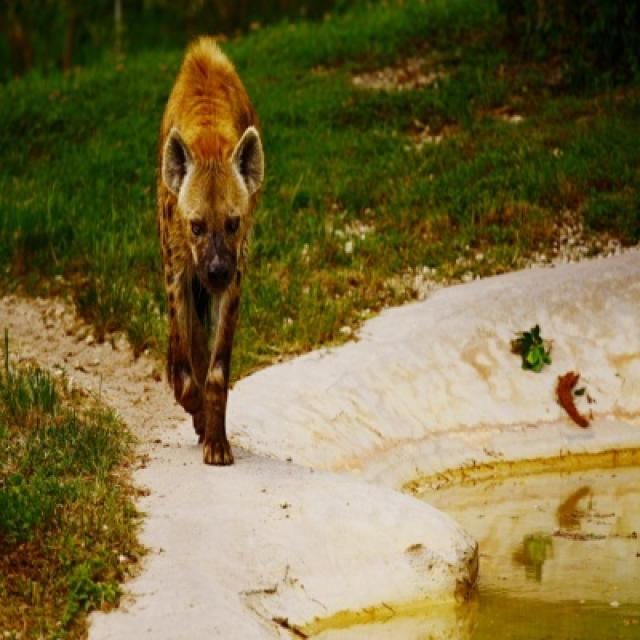hyena: (154, 37, 267, 469)
